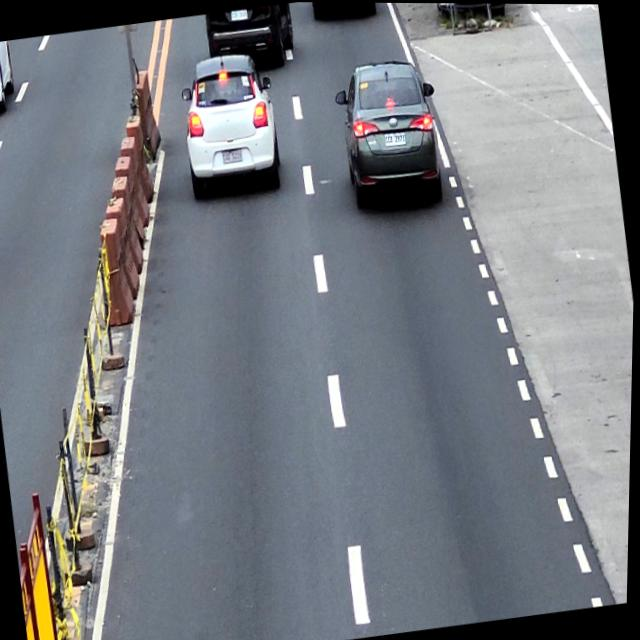Car: (331, 55, 451, 218), (175, 50, 287, 203), (204, 2, 299, 75), (0, 40, 19, 117)
License-Plate: (383, 129, 408, 146), (222, 147, 244, 164), (231, 8, 249, 19)
